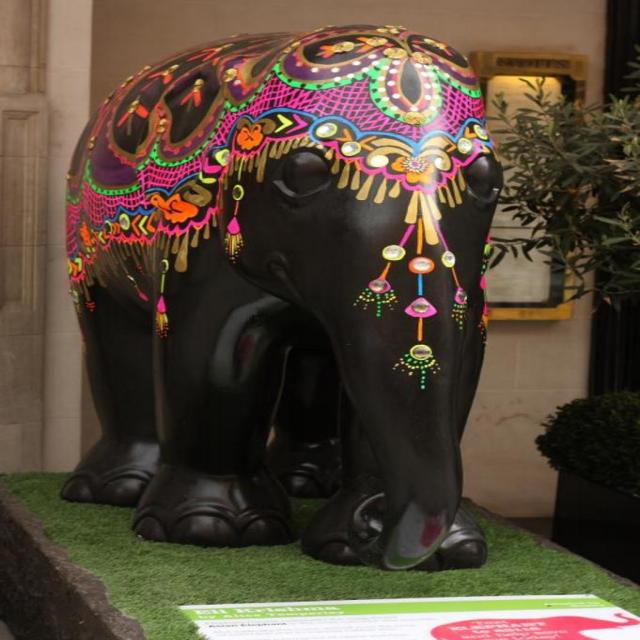elephant: (58, 26, 484, 569)
